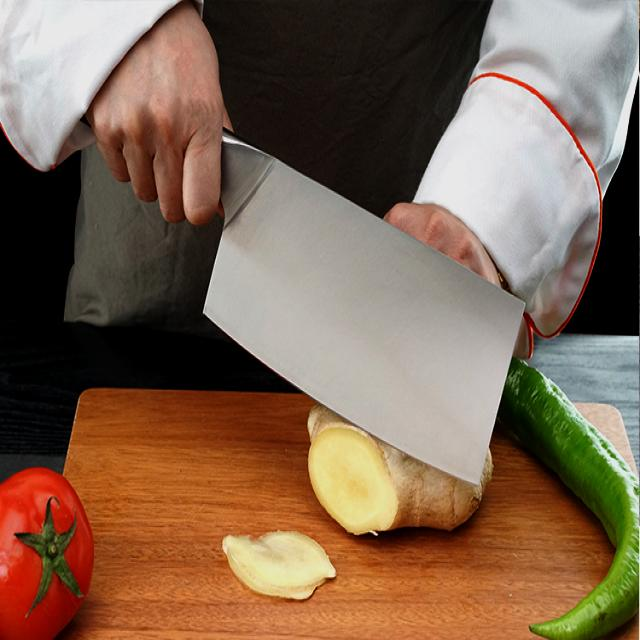cleaver: (210, 125, 526, 479)
